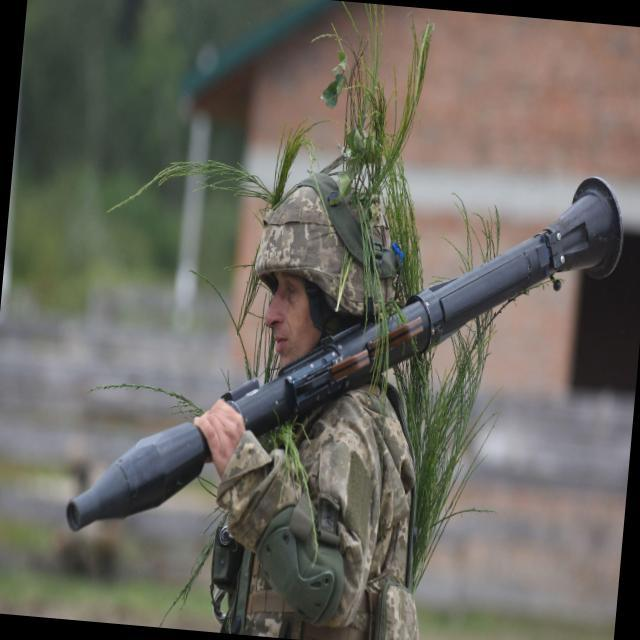rocket: (64, 134, 634, 576)
